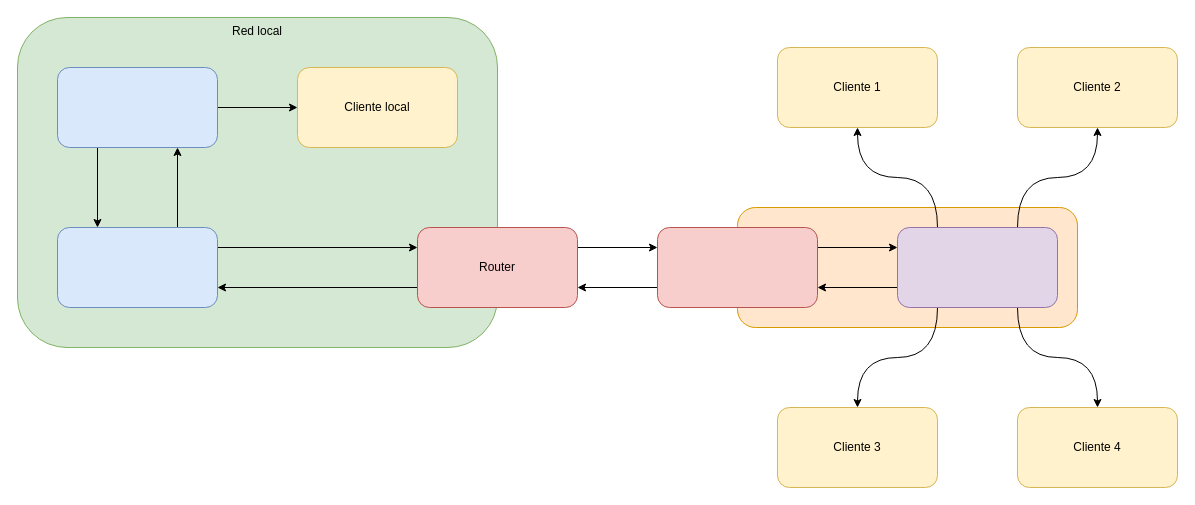
This 1195x505 diagram has some shape labels left out. Here are the shapes that lost their labels. From the top down, the centre of each, then its label:
point (137, 107): Servidor (Flectra)
point (137, 267): Conector (Cloudflare Tunnels)
point (737, 267): Proveedor de internet
point (977, 267): Cloudflare CDN
